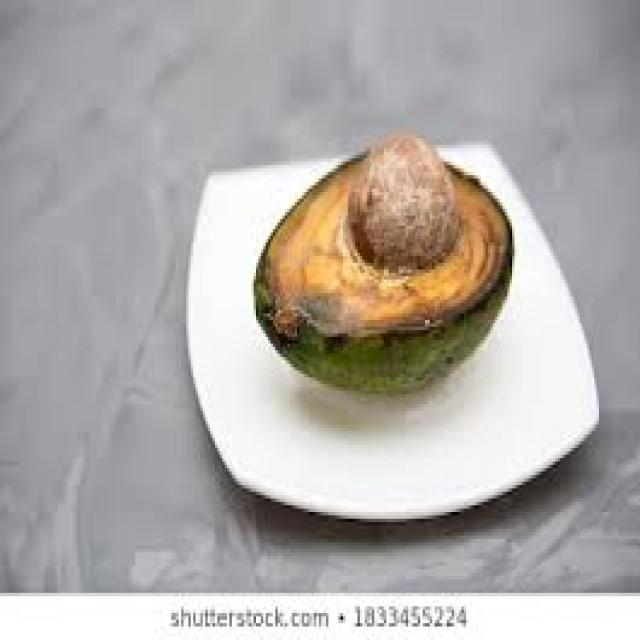organic waste: (251, 138, 510, 391), (346, 128, 456, 273)
